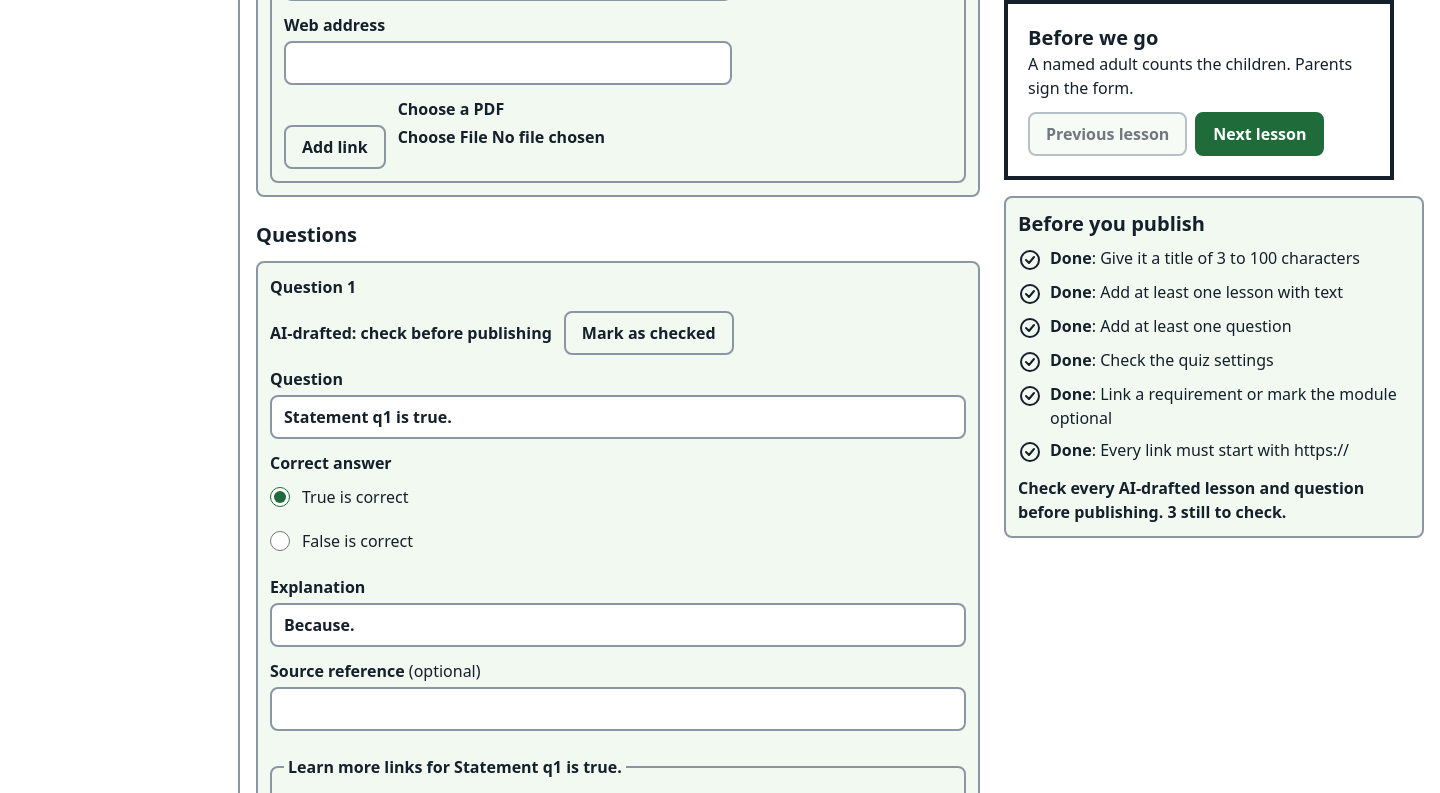
Test: C7 Mark as checked and the publish checklist › stores who checked an item, updates the label and the count, and audits it
(page scrolled)
Step 1. Click the button "Mark as checked" → (649, 333), box [564,311,734,355]
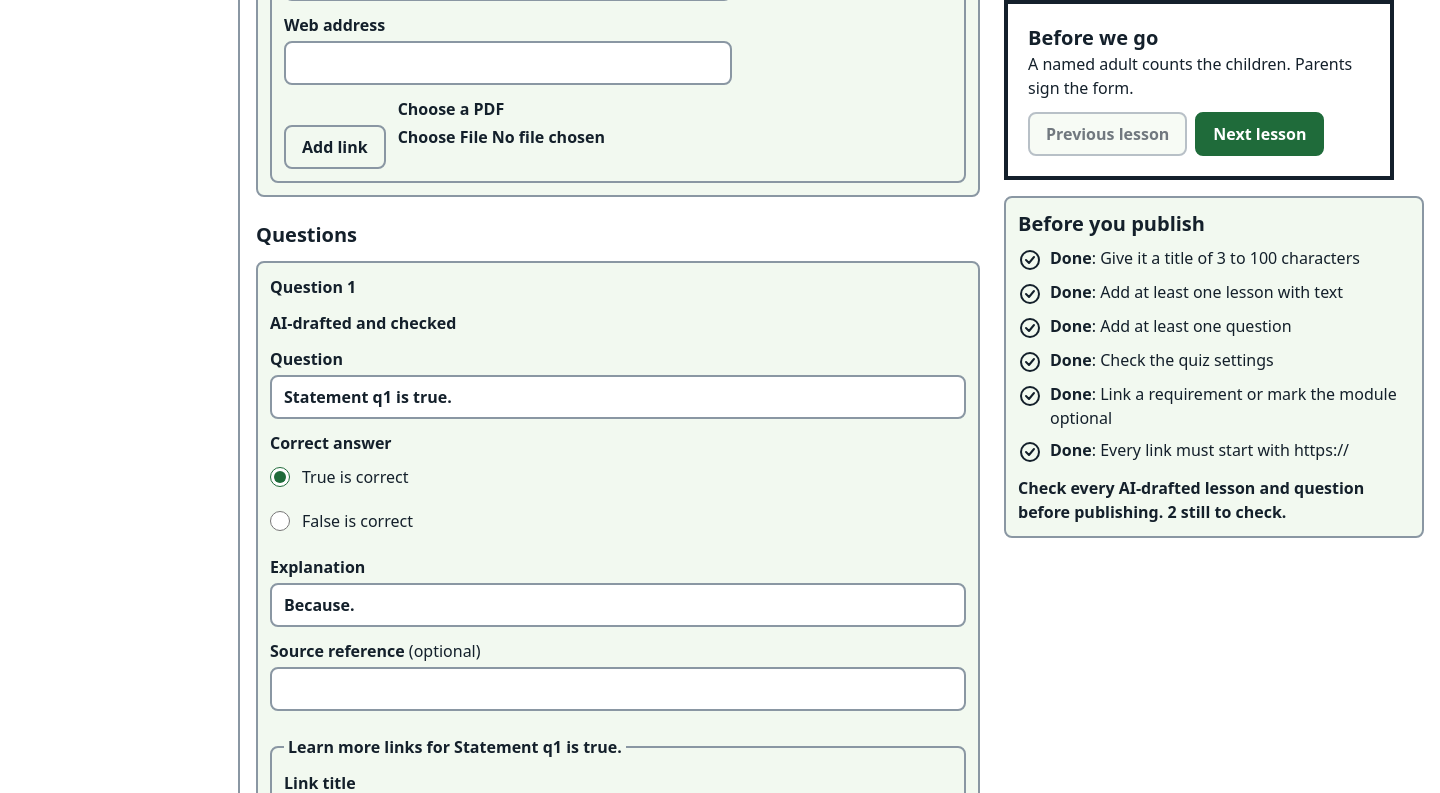
Expected: the button "Mark as checked" is not shown
Now the text with test id "ai-label" reads "AI-drafted and checked", box [270,312,456,334]
Now the text with test id "ai-unchecked-message" shows "2 still to check", box [1018,477,1364,523]
